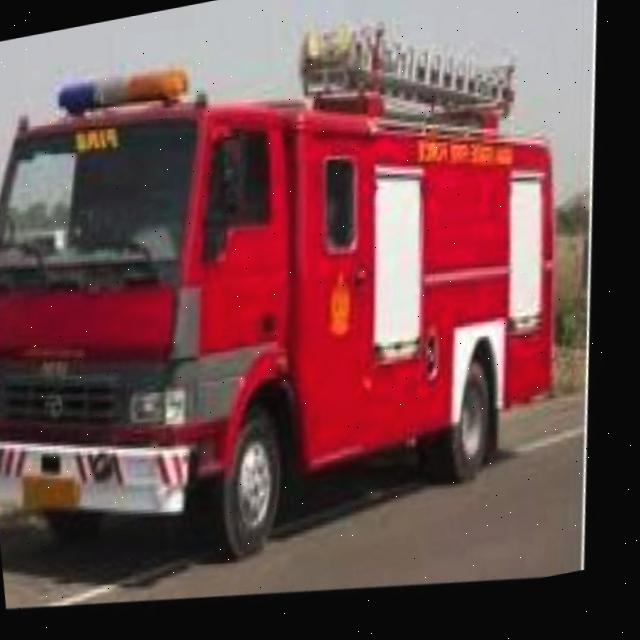emergency: (0, 0, 613, 606)
